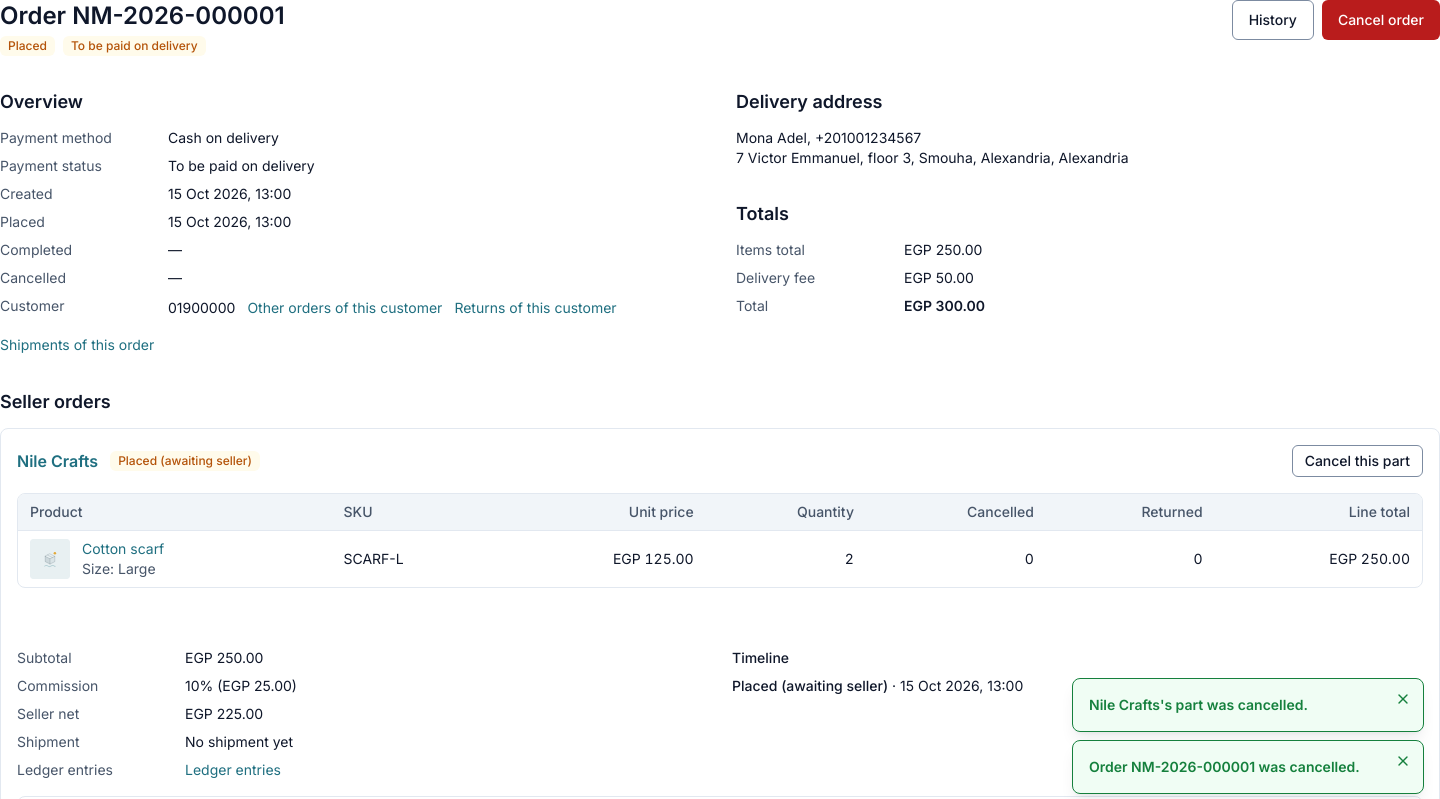
Test: admin cancellation (spec 03 §7.3 AD-15 A1 / A2, T-M3) › A1 refused: SELLER_ORDER_NOT_CANCELLABLE explains and reads the order again
Click the button with aria-label "Cancel Nile Crafts's part".
click(1357, 461)  # box x1=1292 y1=445 x2=1423 y2=477
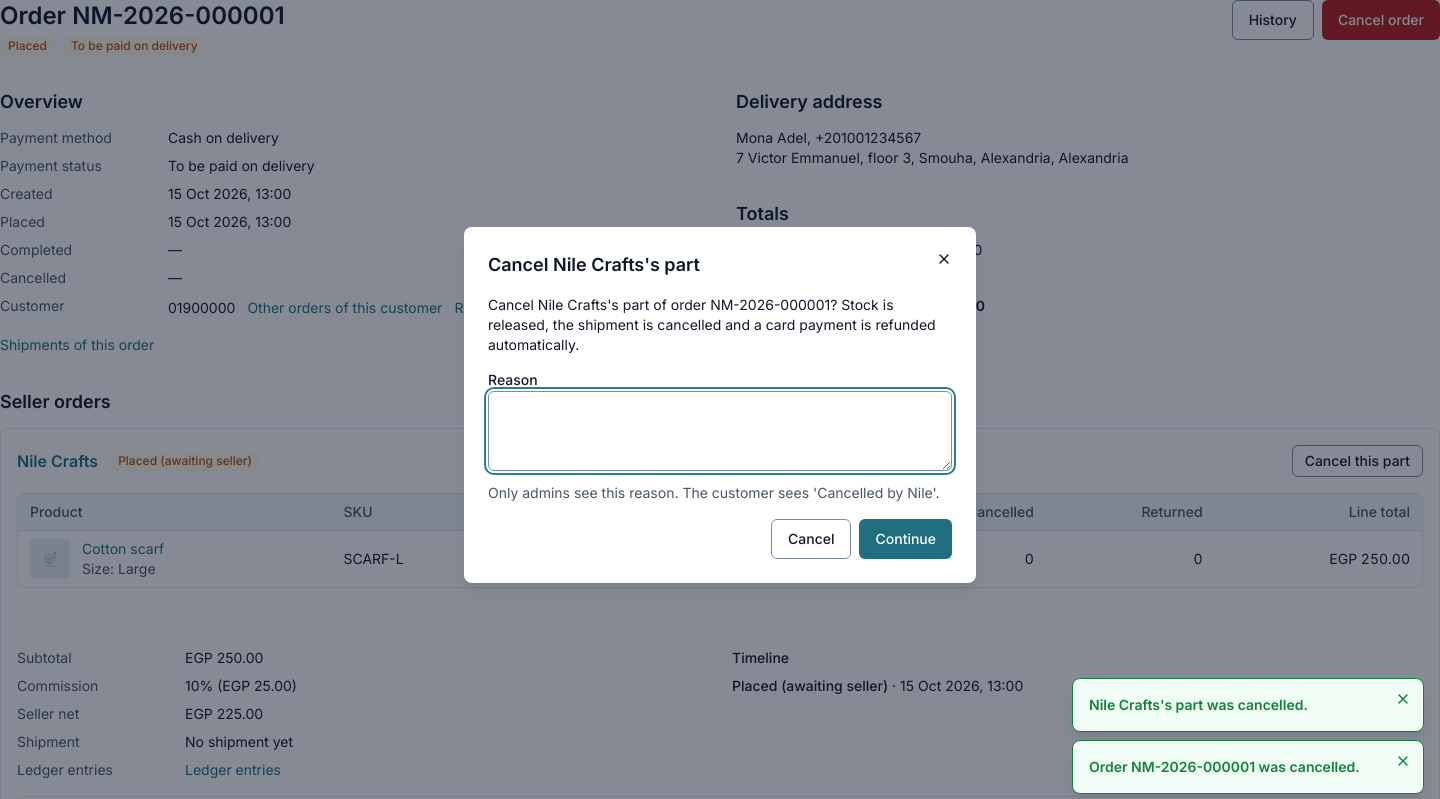
Type "Seller closed" into the text box labelled "Reason".
click(720, 431); type("Seller closed")  # box x1=488 y1=391 x2=952 y2=471
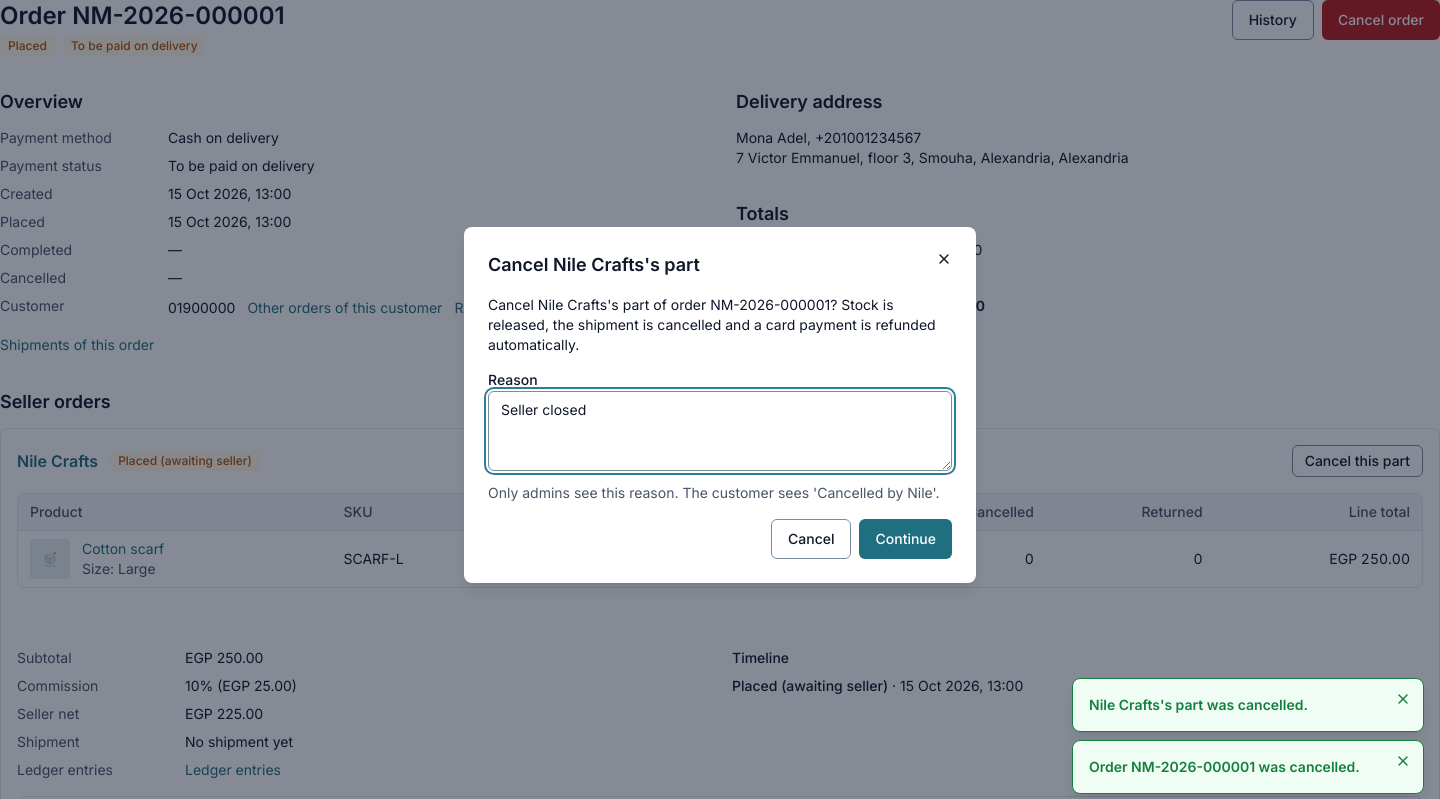
Click the button "Continue".
click(906, 539)  # box x1=860 y1=519 x2=952 y2=559
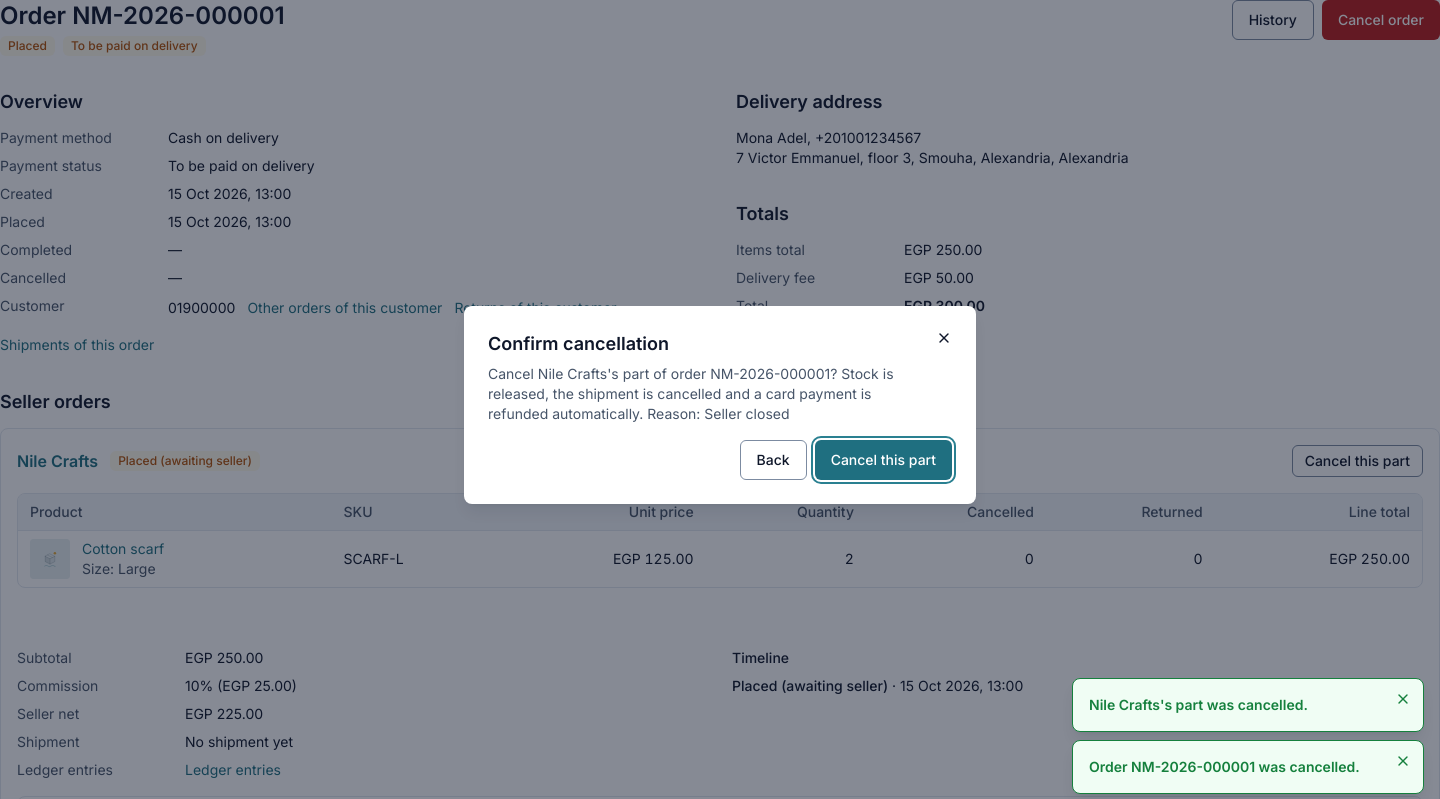
Click the button "Cancel this part".
click(883, 460)  # box x1=815 y1=440 x2=952 y2=480
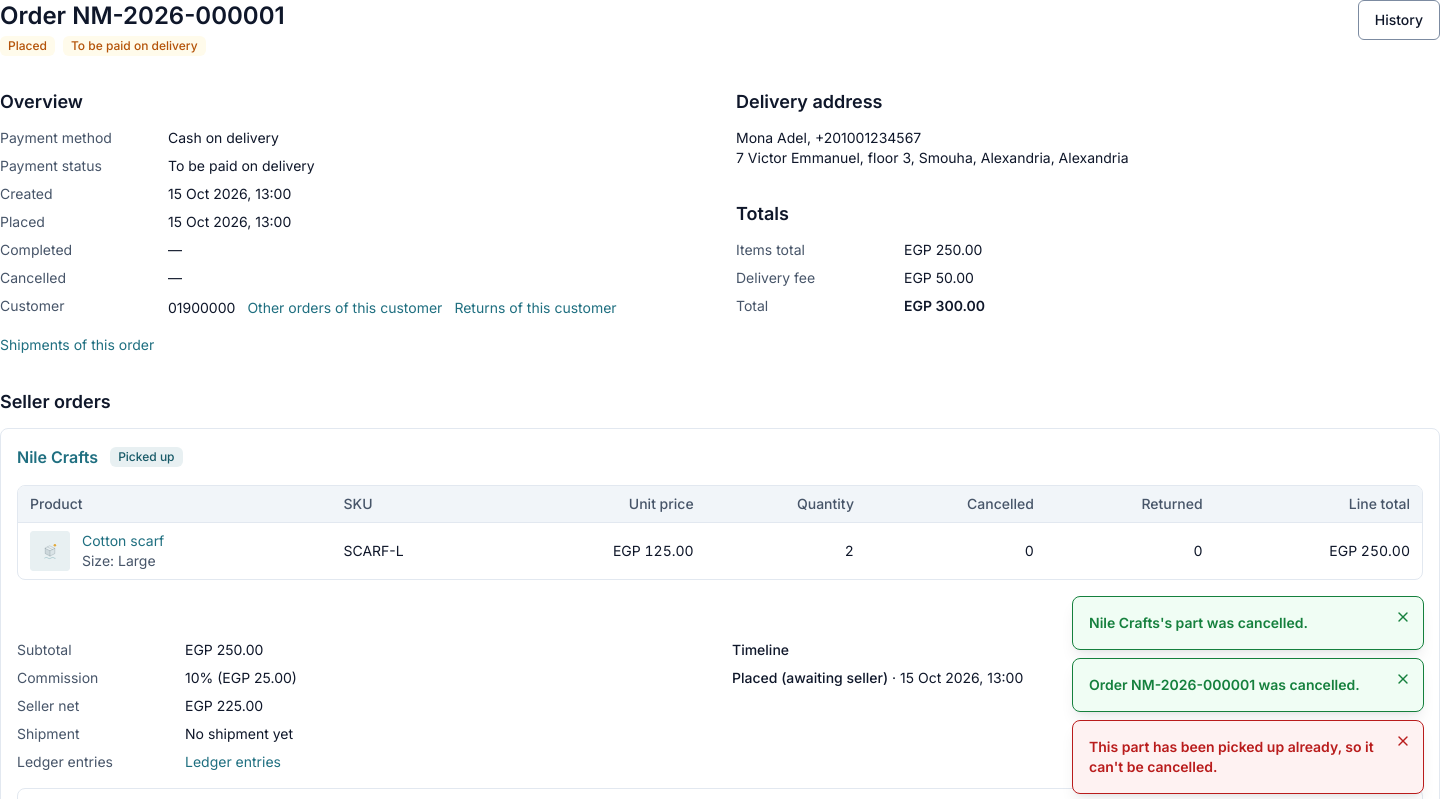
Expected: the text "This part has been picked up already, so it can't be cancelled." is shown, x1=1089 y1=737 x2=1383 y2=777
Expected: the text "Cancel Nile Crafts's part" is gone
